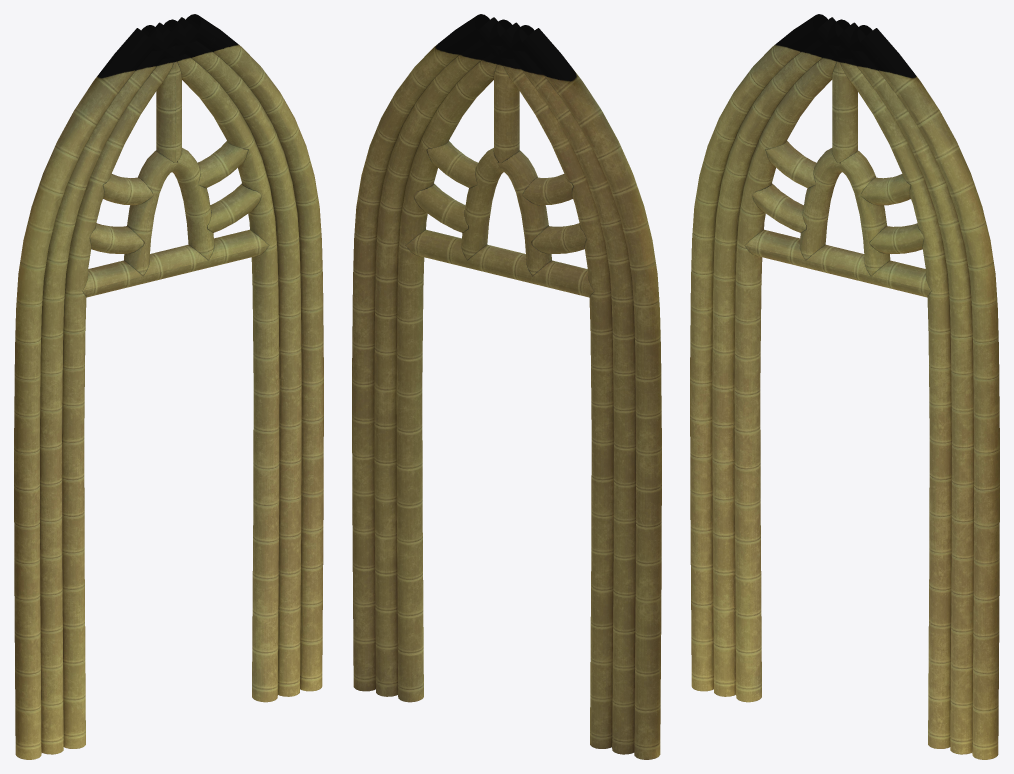
File: Bamboo Door_LOD1.glb
3 renders of one model, left to right at view 1: azimuth 30°, elevation 25°; view 2: azimuth 150°, elevation 25°; view 3: azimuth 330°, elevation 25°, orthographic.
Parts seen in each view (by area): view 1: Bamboo Door_PROCESSED.001_LOD1; view 2: Bamboo Door_PROCESSED.001_LOD1; view 3: Bamboo Door_PROCESSED.001_LOD1.
Part boxes in pixels (<box>): Bamboo Door_PROCESSED.001_LOD1: <box>14,14,323,759</box>; Bamboo Door_PROCESSED.001_LOD1: <box>352,14,661,759</box>; Bamboo Door_PROCESSED.001_LOD1: <box>690,14,999,759</box>.
Size of the model in its own units: 5.17 by 11.25 by 0.4063.
Materials: 1 (1 with a texture image).
